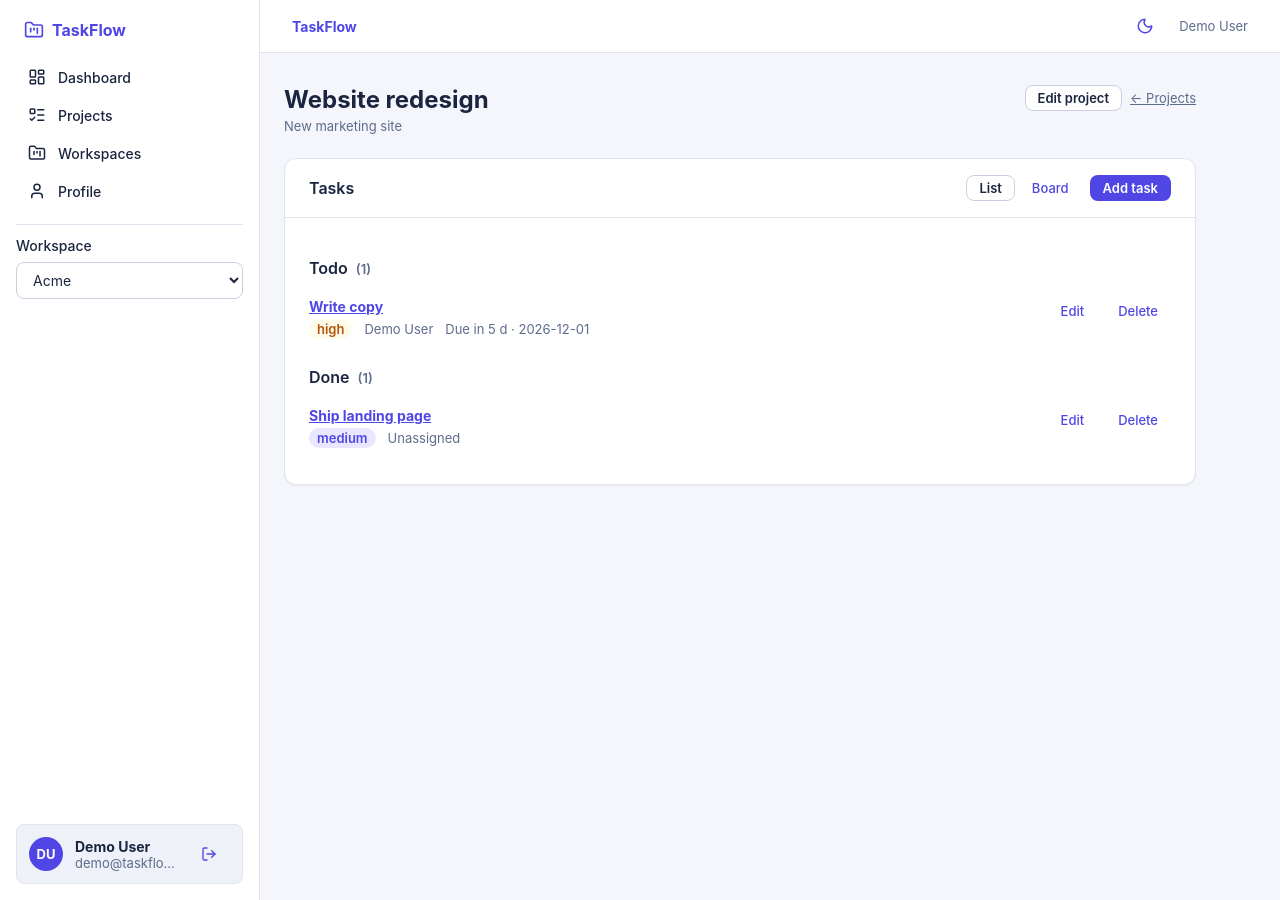
Test: Board view — "Board groups tasks by status column" › shows one column per status with its tasks
This screenshot has width=1280, height=900.
Expected: the link "Write copy" is shown, [309, 298, 383, 315]
Click the button "Board". click: (1050, 188)
box: [1019, 175, 1082, 201]
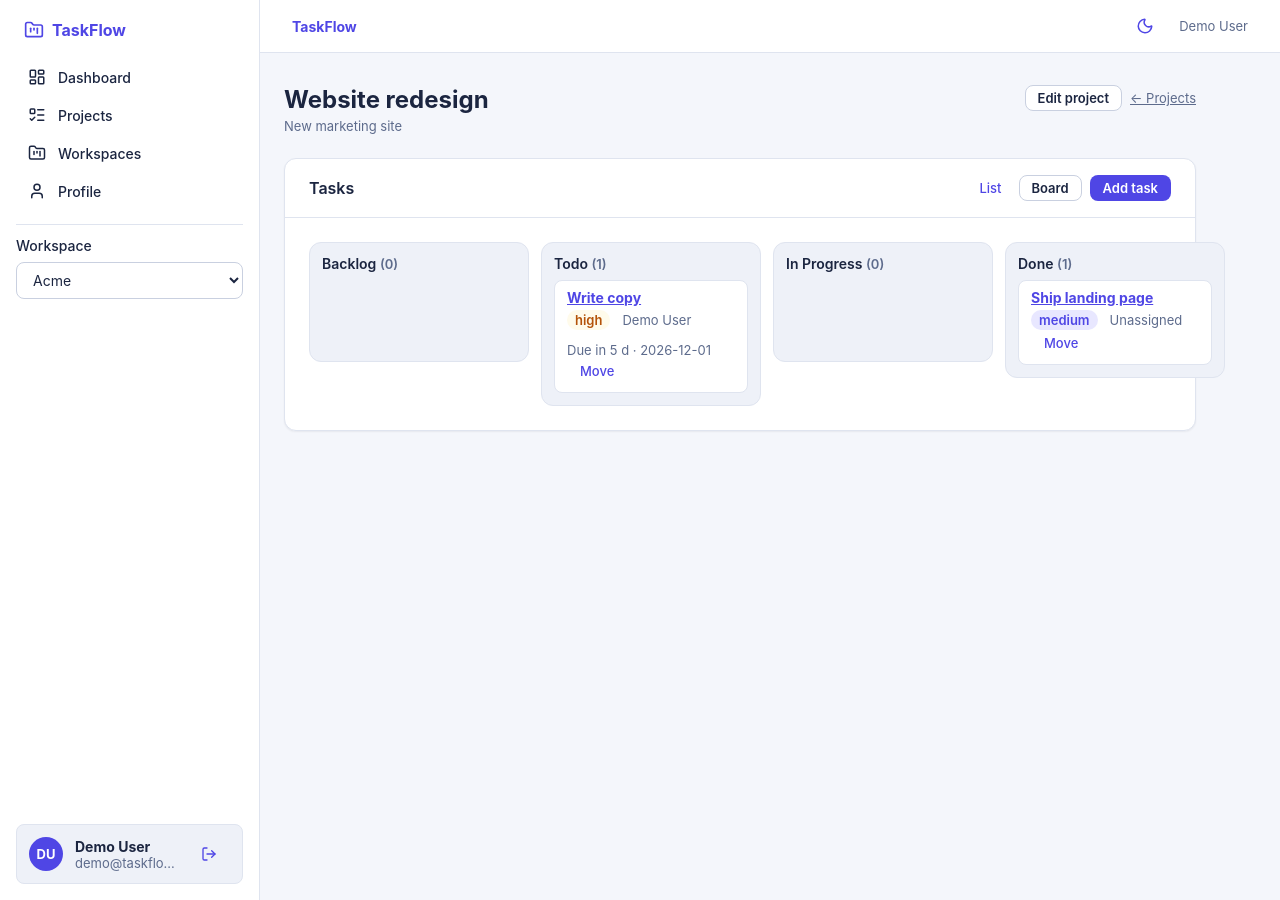
Expected: the heading "Backlog (0)" is shown, [322, 255, 398, 272]
Expected: the heading "In progress (0)" is shown, [786, 255, 884, 272]
Expected: the element "Todo" shows "Write copy", [567, 289, 641, 306]
